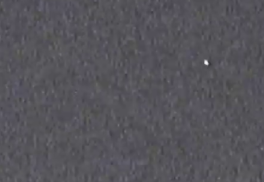Target: (204, 60, 208, 65)
